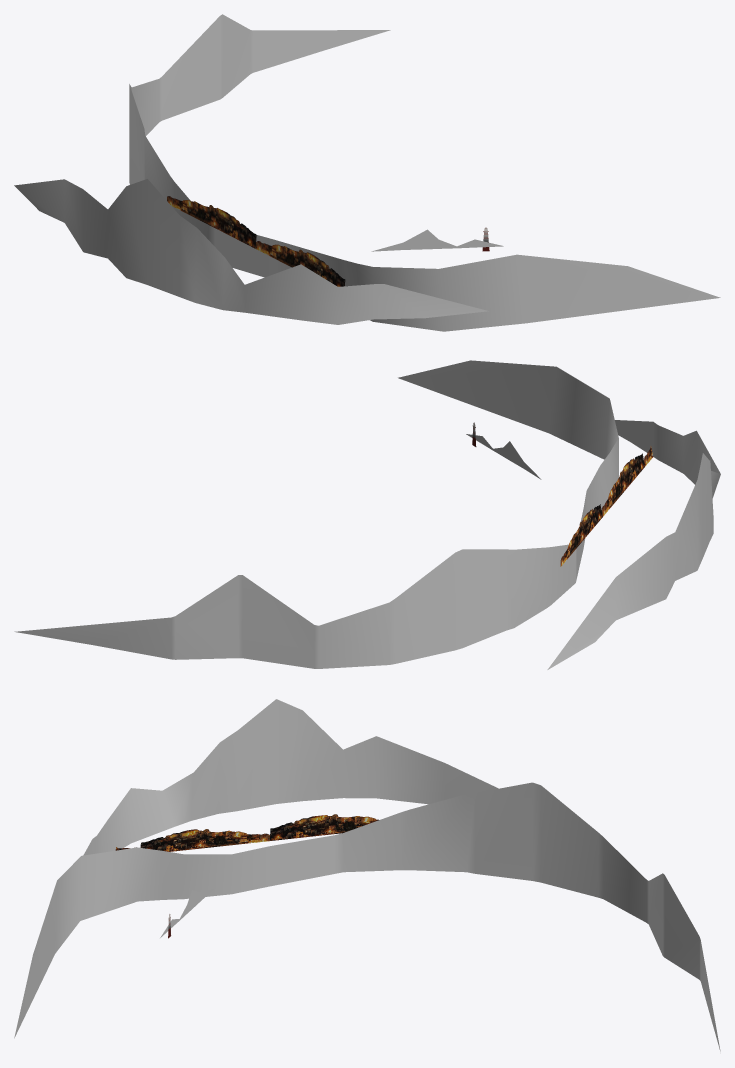
The model's file is Env.fbx.
The picture shows the model from 3 angles, top to bottom: view 1: azimuth 30°, elevation 25°; view 2: azimuth 150°, elevation 25°; view 3: azimuth 270°, elevation 25°; orthographic projection.
Visible parts, largest first — view 1: Mount2, Mount3, City, Mount1; view 2: Mount2, Mount3, City, Mount1; view 3: Mount2, Mount3, City.
Boxes of the visible parts, bbox=[...] form: Mount2: bbox=[129, 14, 720, 331]; Mount3: bbox=[14, 179, 488, 324]; City: bbox=[167, 196, 347, 286]; Mount1: bbox=[371, 229, 503, 251]; Mount2: bbox=[14, 360, 618, 668]; Mount3: bbox=[547, 420, 720, 669]; City: bbox=[560, 446, 653, 566]; Mount1: bbox=[466, 434, 541, 479]; Mount2: bbox=[14, 782, 720, 1051]; Mount3: bbox=[83, 699, 498, 855]; City: bbox=[115, 814, 378, 851].
Size of the model in its own units: 17262 by 4453 by 22156.
